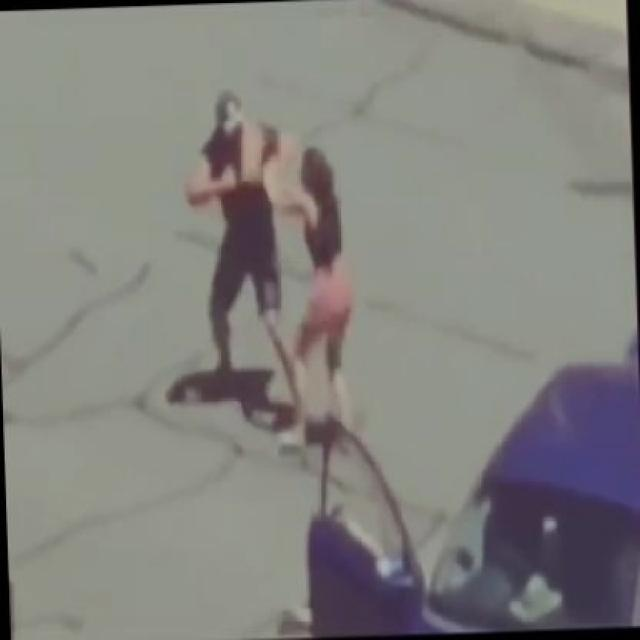fight: (163, 82, 363, 456)
